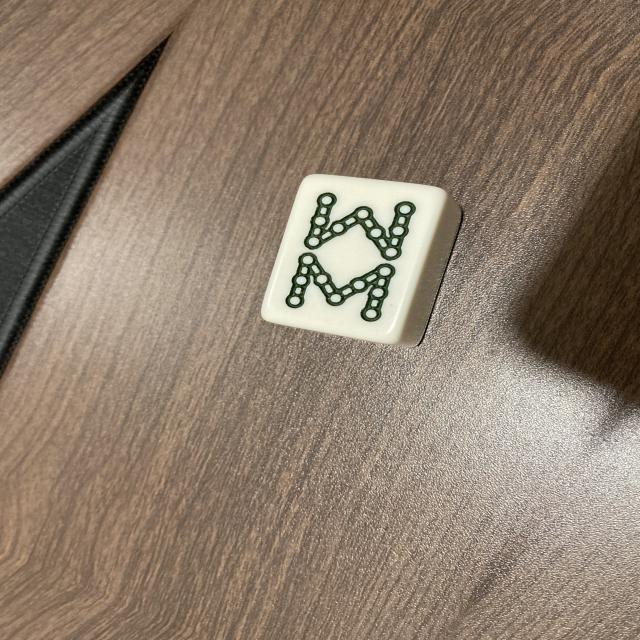s8: (266, 176, 445, 339)
